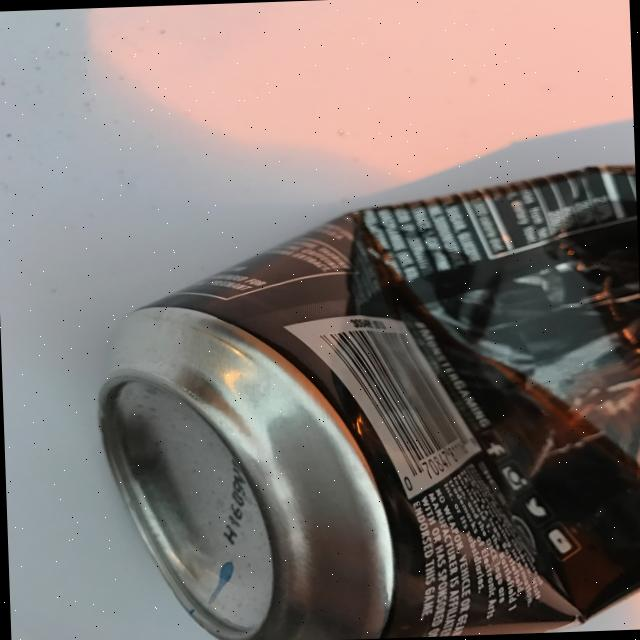metal: (88, 161, 640, 640)
